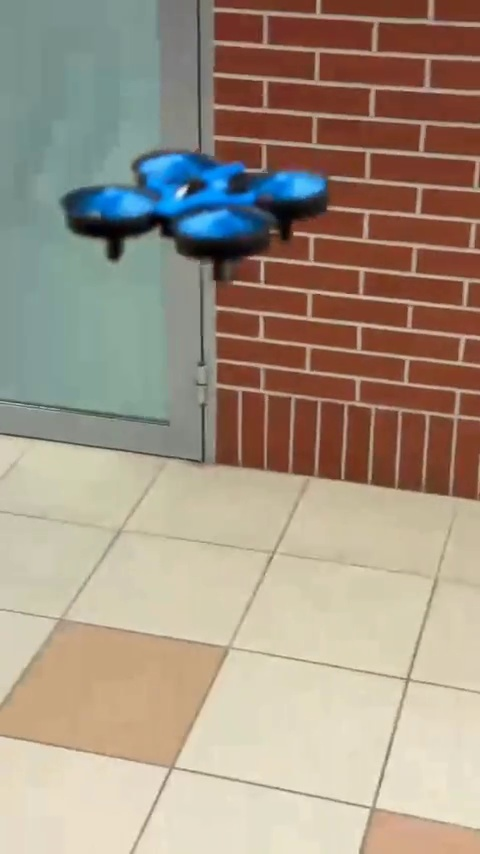drone: (65, 145, 324, 273)
